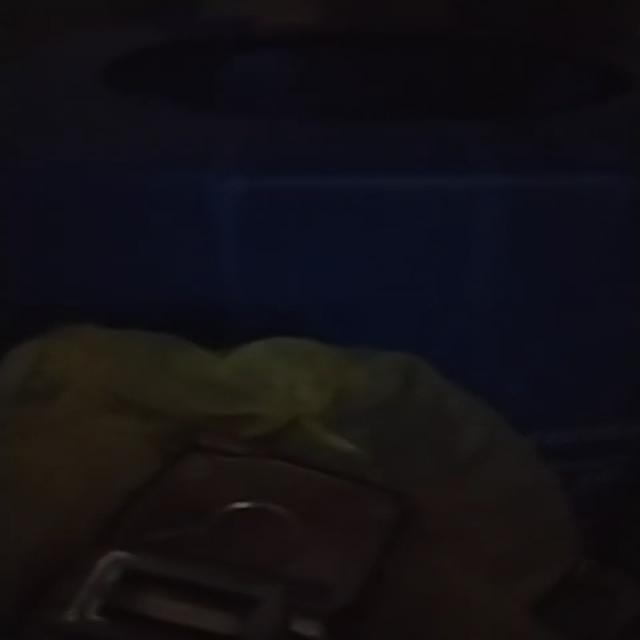bin: (2, 0, 640, 577)
metal: (55, 454, 399, 640)
